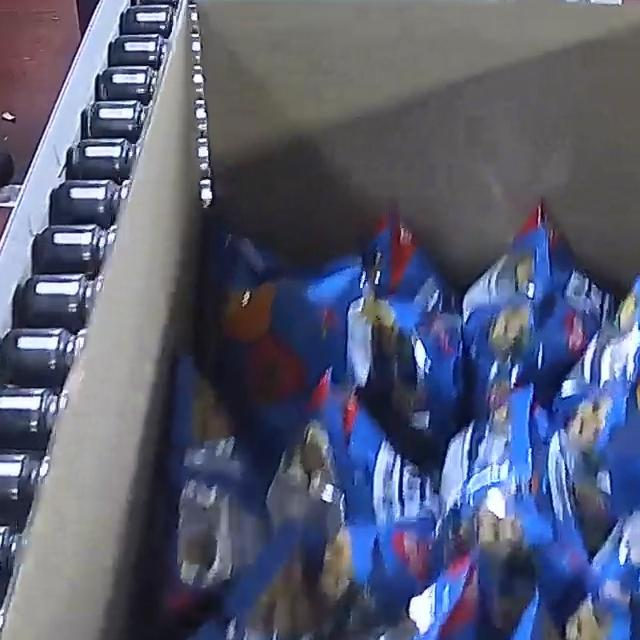paprika: (125, 196, 640, 640)
